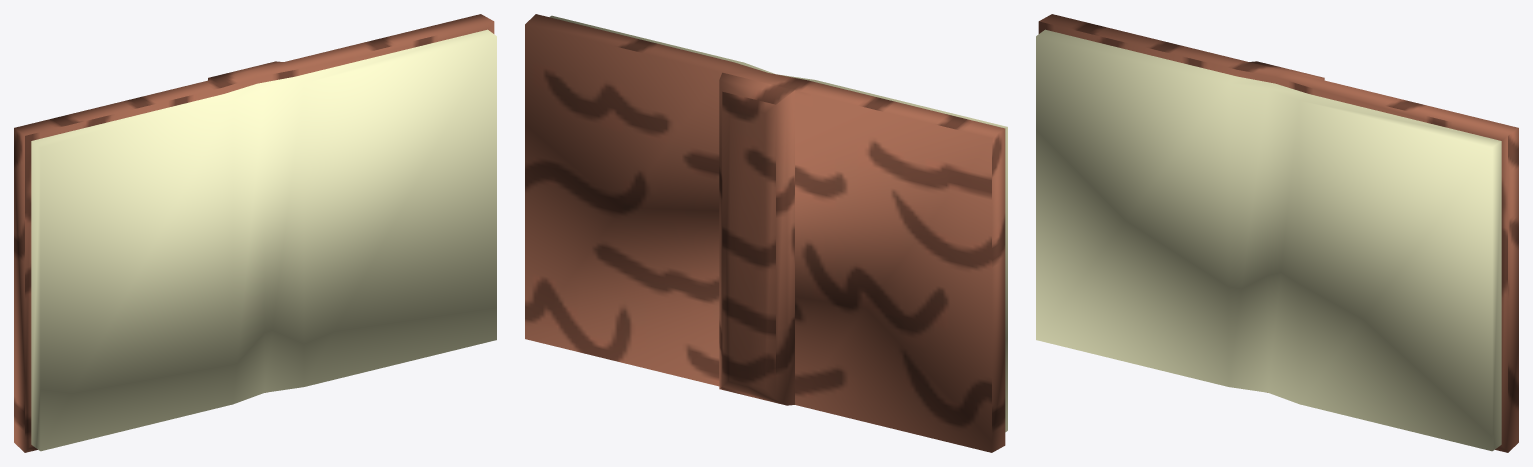
Rendered from item-journal.glb.
The picture shows the model from 3 angles, left to right: view 1: azimuth 30°, elevation 25°; view 2: azimuth 150°, elevation 25°; view 3: azimuth 330°, elevation 25°; orthographic projection.
Bounding box in the file's own units: 0.3472 × 0.2242 × 0.0413.
Materials: 3 (1 with a texture image).
